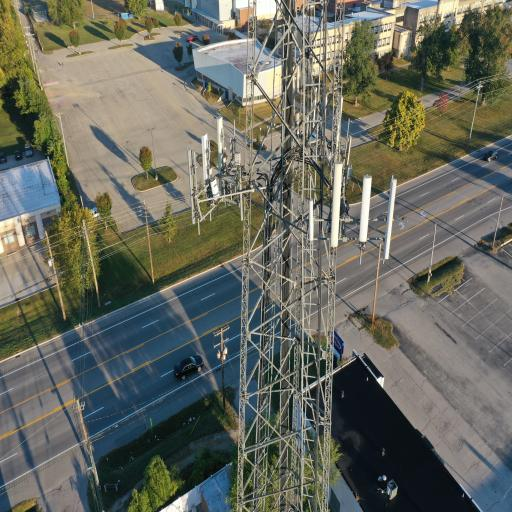supporting_tower: (182, 0, 410, 512)
